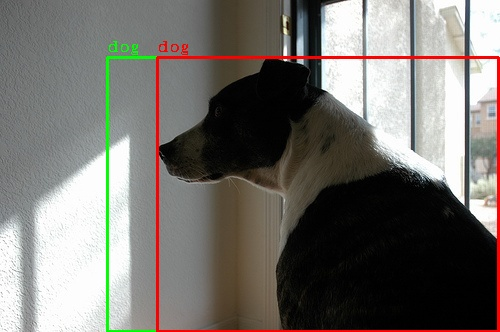dog: (107, 57, 498, 331)
